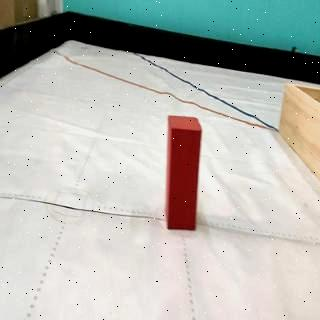redbox: (165, 114, 202, 230)
